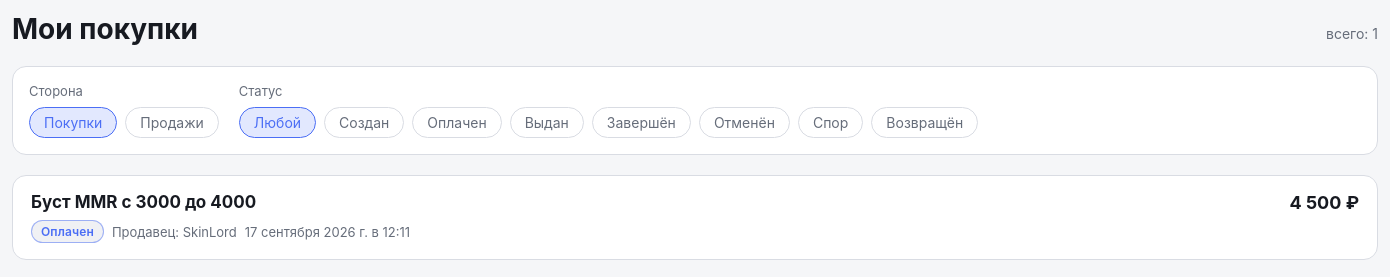
Test: переключение на продажи перезапрашивает список
Expected: the link "Буст MMR" is shown, [12, 175, 1378, 260]
Click the button "Продажи" at [172, 122], box [125, 107, 219, 138]
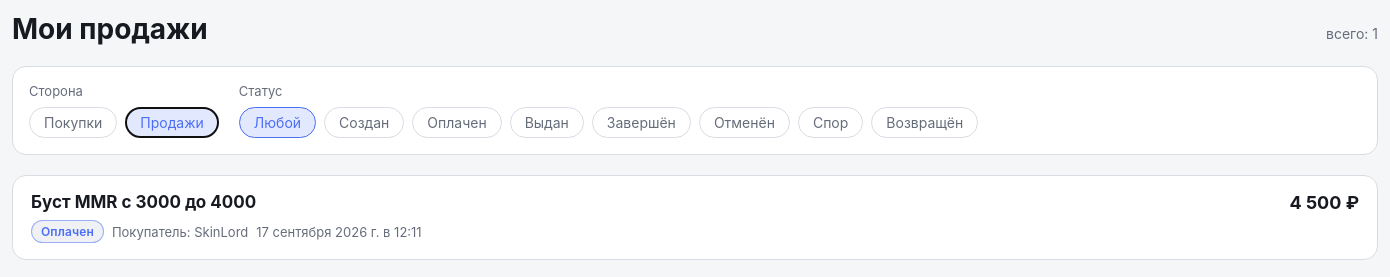
Expected: the heading "Мои продажи" is shown, [12, 12, 208, 46]
Expected: the link "Буст MMR" shows "Покупатель: SkinLord", [12, 175, 1378, 260]
